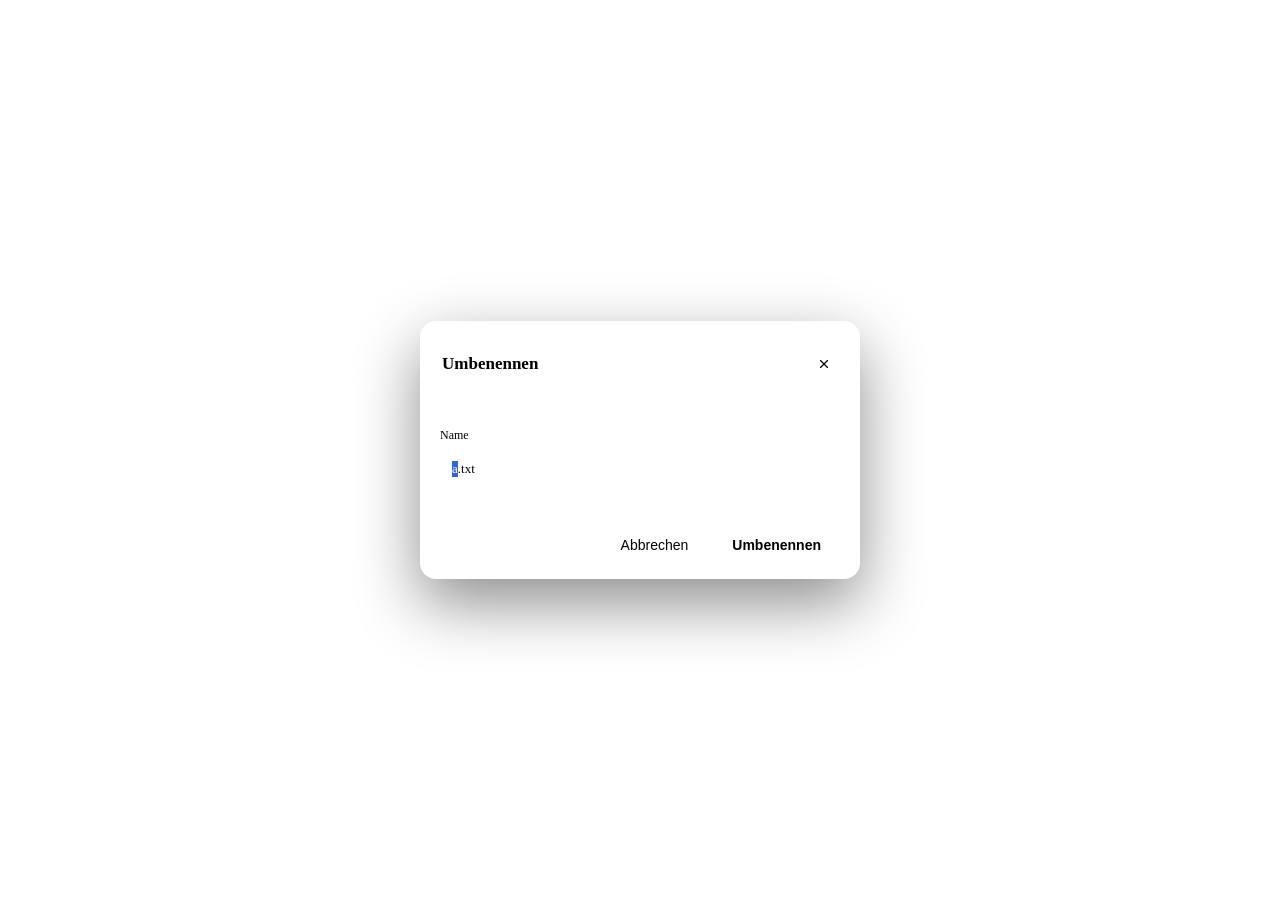
NameDialog › shows AlreadyExists from the core at the field
Replace the text in the field labelled "Name" with "b" at [650, 469], box left=440, top=449, right=860, bottom=489
Then press Enter
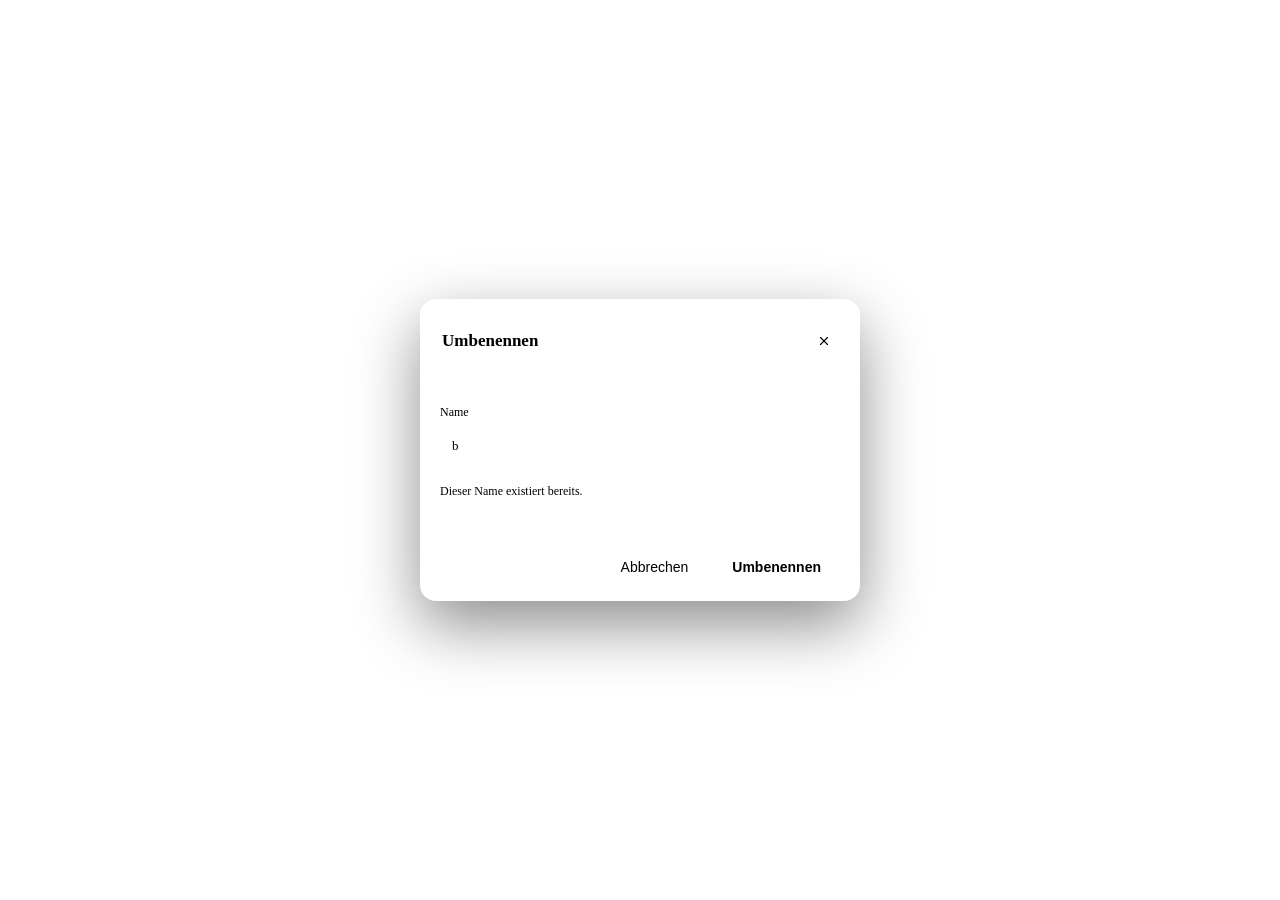
expect the text "Dieser Name existiert bereits." is shown: met, box left=440, top=484, right=583, bottom=498
